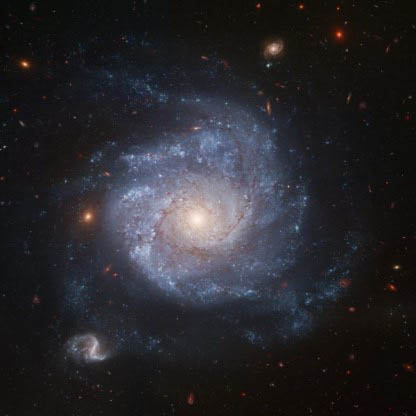NGC 1309: (56, 43, 350, 378)
